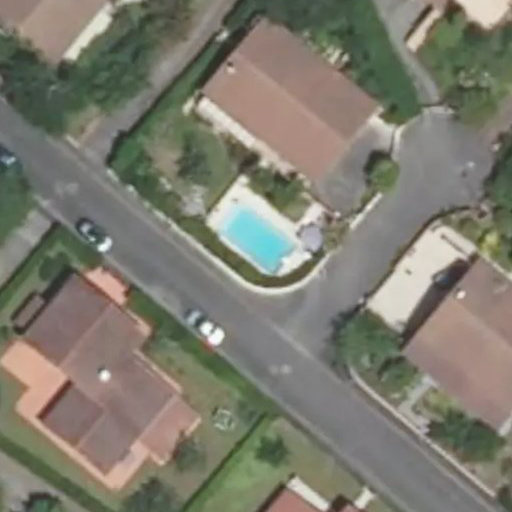pool: (220, 233, 291, 250)
